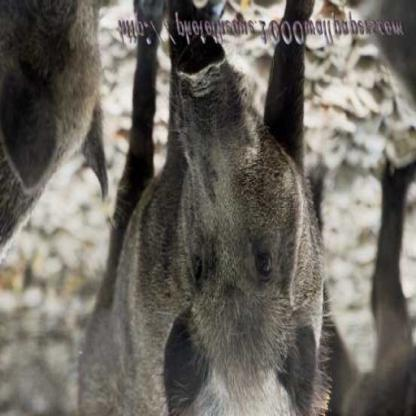boar: (38, 1, 384, 416)
